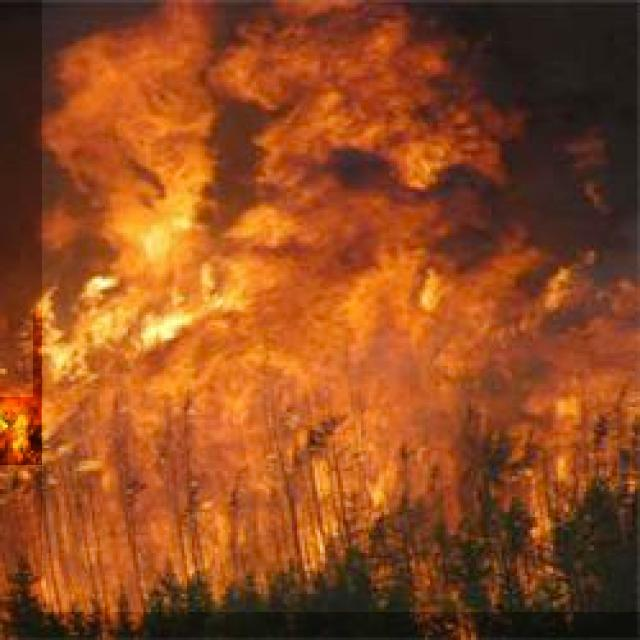Fire: (42, 0, 640, 612), (130, 299, 270, 359), (509, 447, 588, 546), (403, 262, 492, 340), (33, 310, 105, 403), (537, 380, 593, 437), (69, 266, 141, 310), (0, 397, 44, 465)
